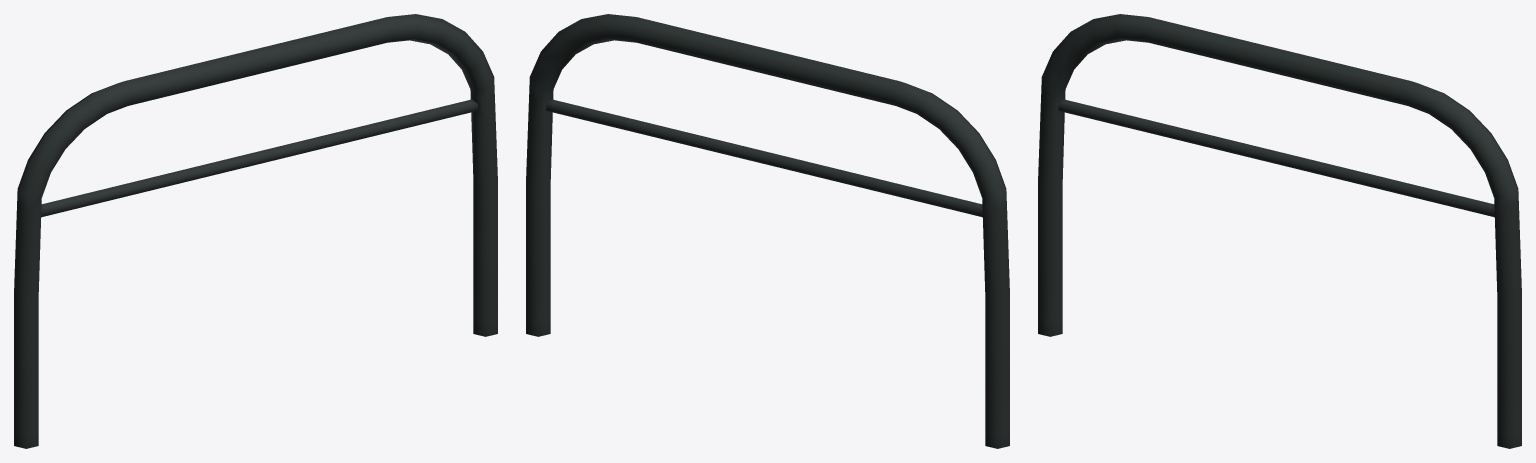
File: MetalFence.fbx
The picture shows the model from 3 angles, left to right: view 1: azimuth 30°, elevation 25°; view 2: azimuth 150°, elevation 25°; view 3: azimuth 330°, elevation 25°; orthographic projection.
Parts seen in each view (by area): view 1: MetalFence; view 2: MetalFence; view 3: MetalFence.
Part boxes in pixels (x1,y1,x2,y2): MetalFence: (14,14,497,448); MetalFence: (526,14,1009,448); MetalFence: (1038,14,1521,448).
Bounding box in the file's own units: 19.66 × 13.12 × 0.866.
1 material, 1 textured.
